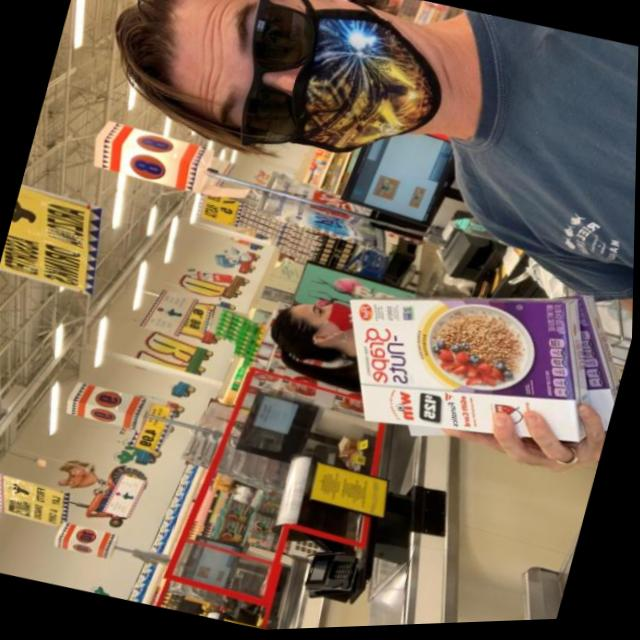Cerealbox: (318, 241, 635, 489)
